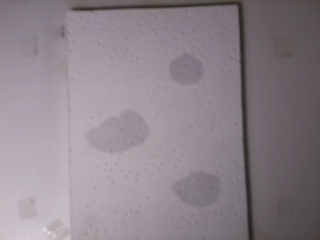Water_detected: (98, 118, 137, 153), (184, 175, 210, 193), (177, 67, 193, 85)
